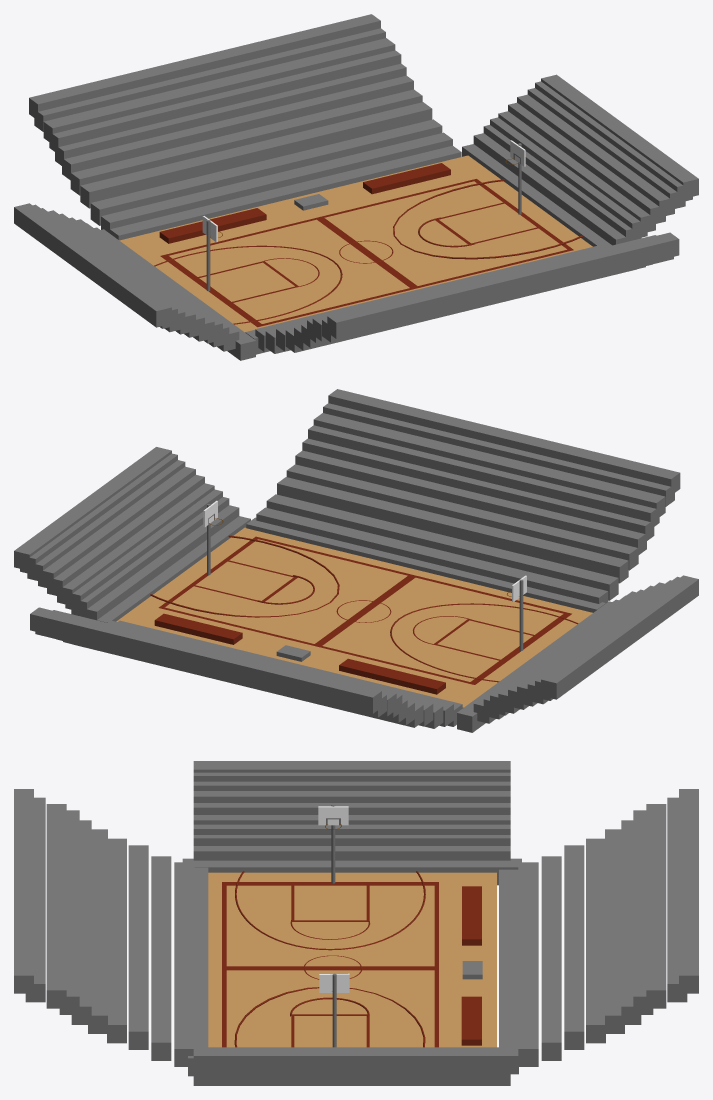
Rendered from courtbruhyes.obj.
3 views of the same model, one above another, from view 1: azimuth 30°, elevation 25°; view 2: azimuth 150°, elevation 25°; view 3: azimuth 270°, elevation 25° (orthographic). The views are drawn at different scales.
Parts seen in each view (by area): view 1: pCube20, pCube1, pCube31, pCube21, pCube32, pCube4, pCube9, pCube5, pCube6, pCube8, sweep3, sweep2; view 2: pCube21, pCube1, pCube31, pCube20, pCube32, pCube3, pCube9, pCube5, pCube6, pCube4, pCube8, sweep3 (+1 smaller); view 3: pCube1, pCube20, pCube21, pCube32, pCube31, pCube8, pCube4, pCube3, pCube5, pCube6, pCube9, sweep2 (+2 smaller).
Part boxes in pixels (x1,y1,x2,y2): pCube20: (29,14,452,233); pCube1: (119,155,592,332); pCube31: (473,74,698,245); pCube21: (255,232,679,353); pCube32: (14,203,239,351); pCube4: (109,145,461,240); pCube9: (462,144,611,247); pCube5: (159,208,266,243); pCube6: (363,163,450,194); pCube8: (101,229,255,360); sweep3: (393,179,582,259); sweep2: (154,245,342,324); pCube21: (256,389,680,603); pCube1: (116,527,592,707); pCube31: (14,447,239,619); pCube20: (30,607,453,728); pCube32: (473,575,698,723); pCube3: (246,517,605,612); pCube9: (93,516,250,622); pCube5: (339,658,445,694); pCube6: (154,613,242,644); pCube4: (118,620,462,726); pCube8: (457,601,611,732); sweep3: (150,535,339,617); pCube1: (208,872,496,1047); pCube20: (518,789,698,1066); pCube21: (14,789,194,1066); pCube32: (193,761,510,860); pCube31: (193,1047,510,1082); pCube8: (182,858,521,885); pCube4: (499,869,518,1074); pCube3: (188,867,208,1076); pCube5: (462,886,481,945); pCube6: (461,996,481,1045); pCube9: (193,1083,510,1085); sweep2: (235,871,425,950).
Bounding box in the file's own units: 34.7 × 5.5 × 34.04.
